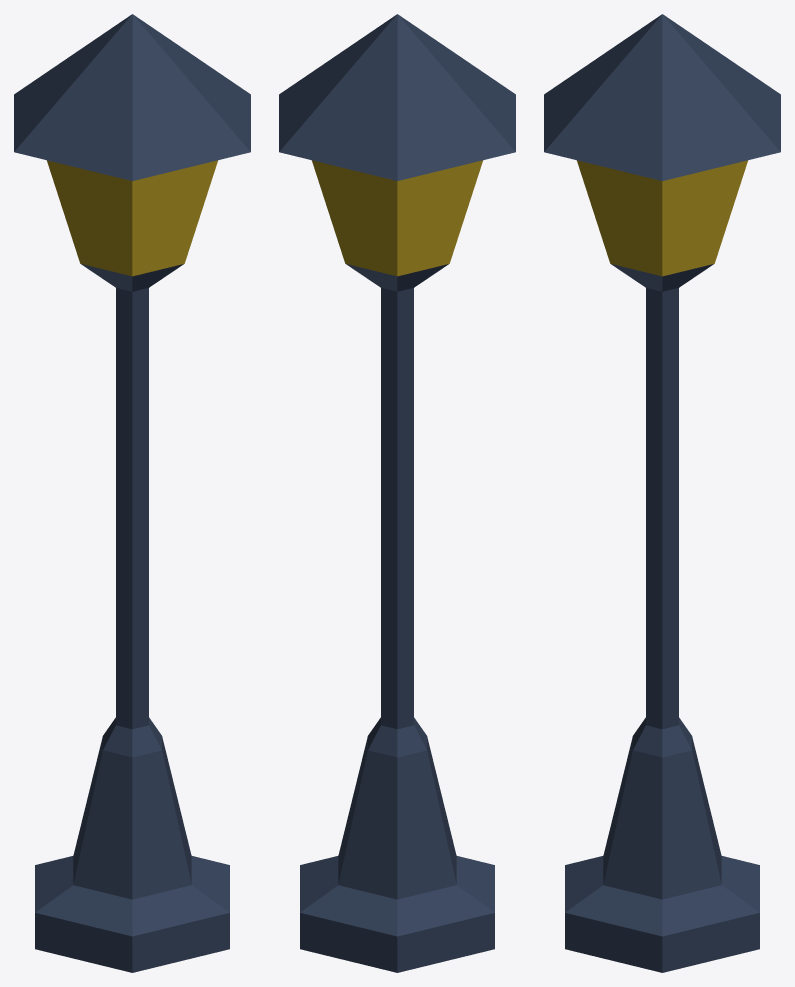
File: prop-lamppost.glb
3 renders of one model, left to right at view 1: azimuth 30°, elevation 25°; view 2: azimuth 150°, elevation 25°; view 3: azimuth 270°, elevation 25°, orthographic.
Parts seen in each view (by area): view 1: Prop_Lamp; view 2: Prop_Lamp; view 3: Prop_Lamp.
Boxes of the visible parts, x1,y1,x2,y2 form: Prop_Lamp: (14, 14, 250, 972); Prop_Lamp: (279, 14, 515, 972); Prop_Lamp: (544, 14, 780, 972).
Size of the model in its own units: 1.36 by 5 by 1.18.
